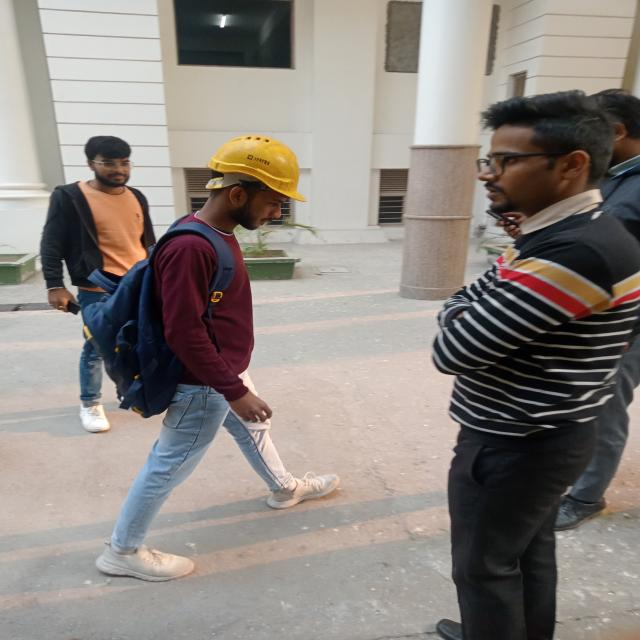no jacket: (120, 123, 350, 596)
unsafe: (421, 92, 640, 640), (40, 128, 155, 432)
